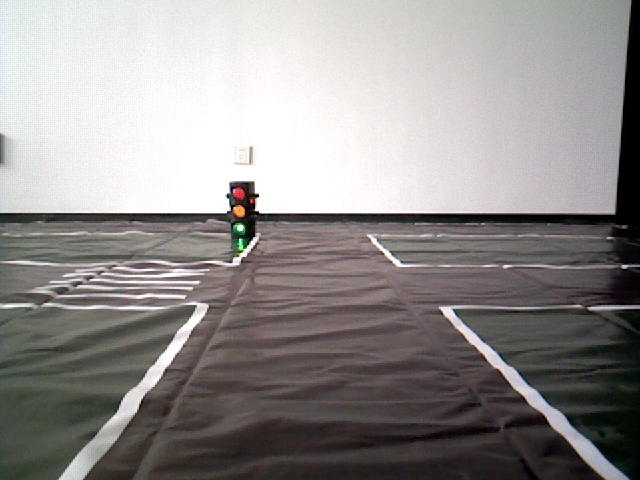green: (229, 181, 251, 233)
